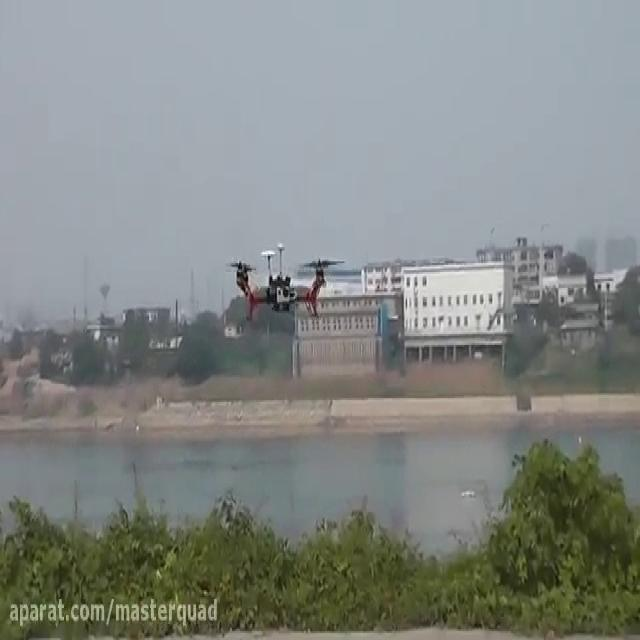drone: (218, 237, 349, 327)
